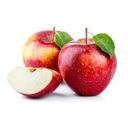apple: (6, 65, 64, 101)
